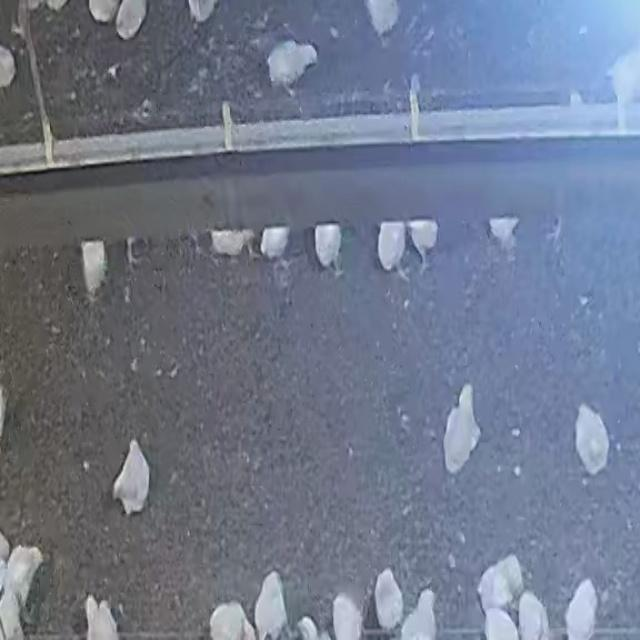chicken: (264, 36, 318, 104), (444, 384, 480, 473), (112, 439, 152, 516), (3, 546, 43, 614), (574, 403, 610, 476), (477, 554, 522, 612), (255, 570, 288, 639), (564, 579, 598, 640), (399, 590, 437, 640), (81, 592, 123, 637), (208, 601, 255, 640), (608, 42, 639, 100), (374, 569, 403, 630), (362, 0, 402, 43), (80, 239, 108, 296), (518, 591, 550, 640), (377, 220, 407, 271), (314, 222, 343, 273), (332, 594, 363, 640), (487, 216, 520, 258), (408, 218, 439, 262), (115, 0, 147, 39), (209, 228, 250, 257), (259, 224, 291, 260)
